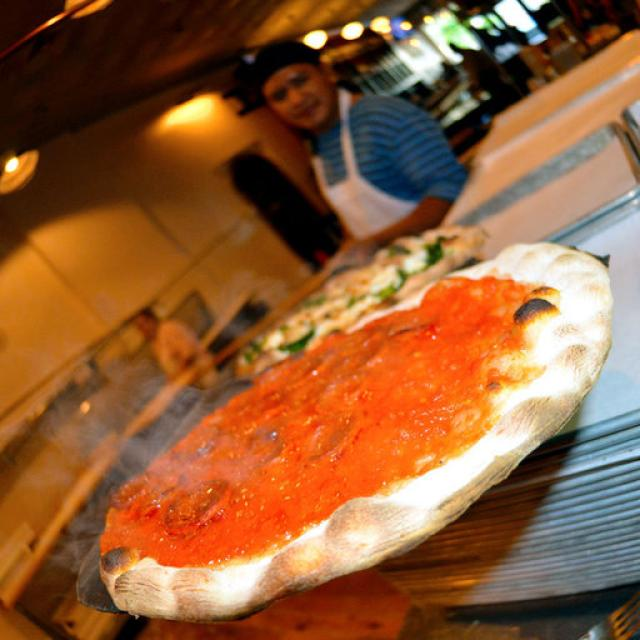Pizza: (96, 242, 614, 624)
